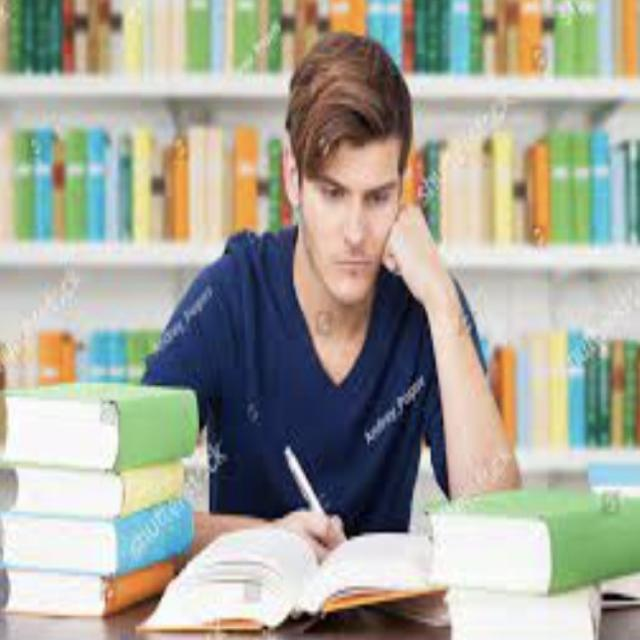studying-person: (130, 20, 544, 640)
